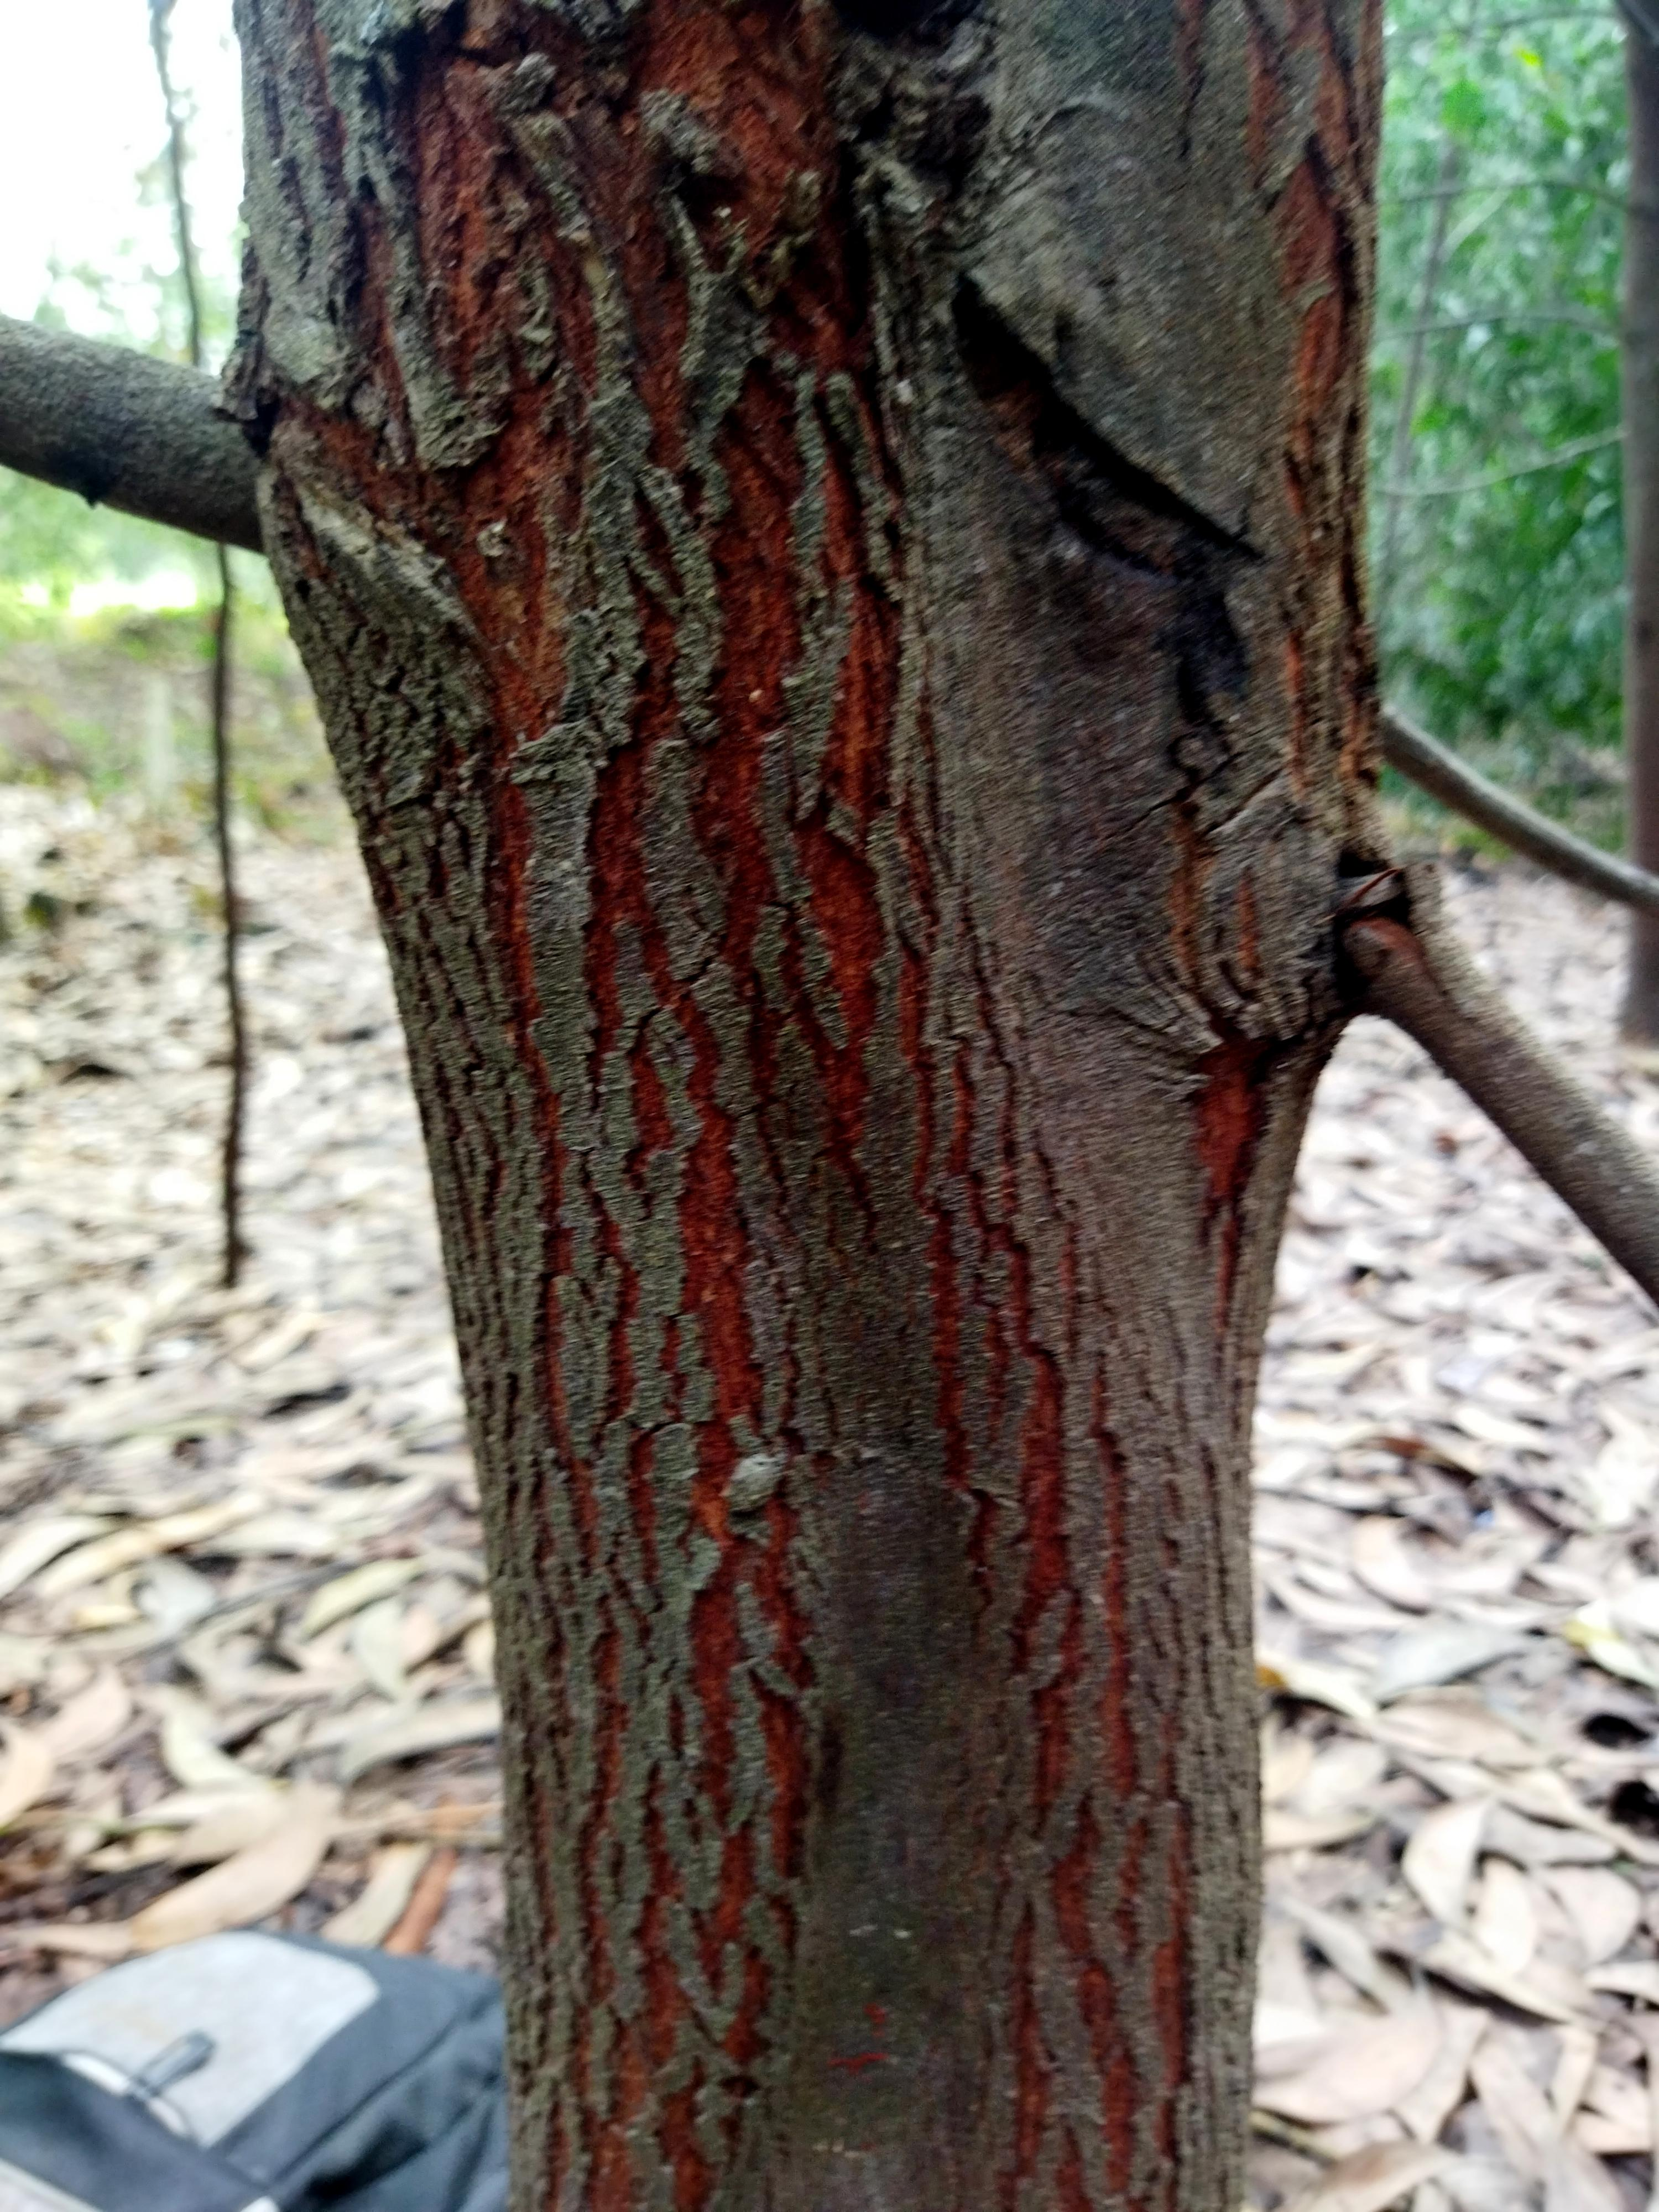Stem Deformation: (272, 7, 1354, 2212)
